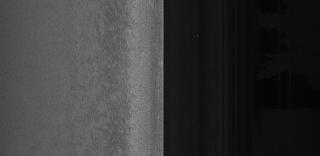silk spot: (98, 15, 140, 115)
